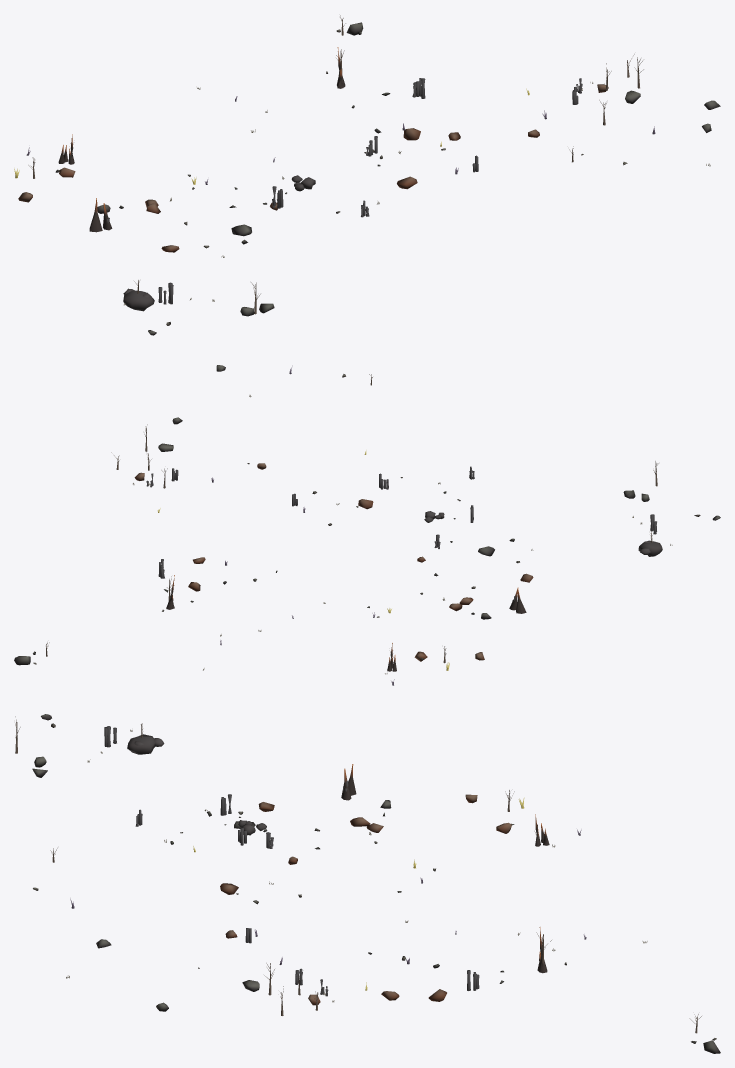
File: ash_land_scatter_c17_27.glb
3 views of the same model, one above another, from view 1: azimuth 30°, elevation 25°; view 2: azimuth 150°, elevation 25°; view 3: azimuth 270°, elevation 25° (orthographic). The views are drawn at different scales.
Visible parts, largest first — view 1: ash_land_scatter_c17_27; view 2: ash_land_scatter_c17_27; view 3: ash_land_scatter_c17_27.
Boxes of the visible parts, <box> form: ash_land_scatter_c17_27: <box>14,15,720,335</box>; ash_land_scatter_c17_27: <box>14,365,720,685</box>; ash_land_scatter_c17_27: <box>15,714,720,1053</box>.
Size of the model in its own units: 166 by 38.04 by 161.
